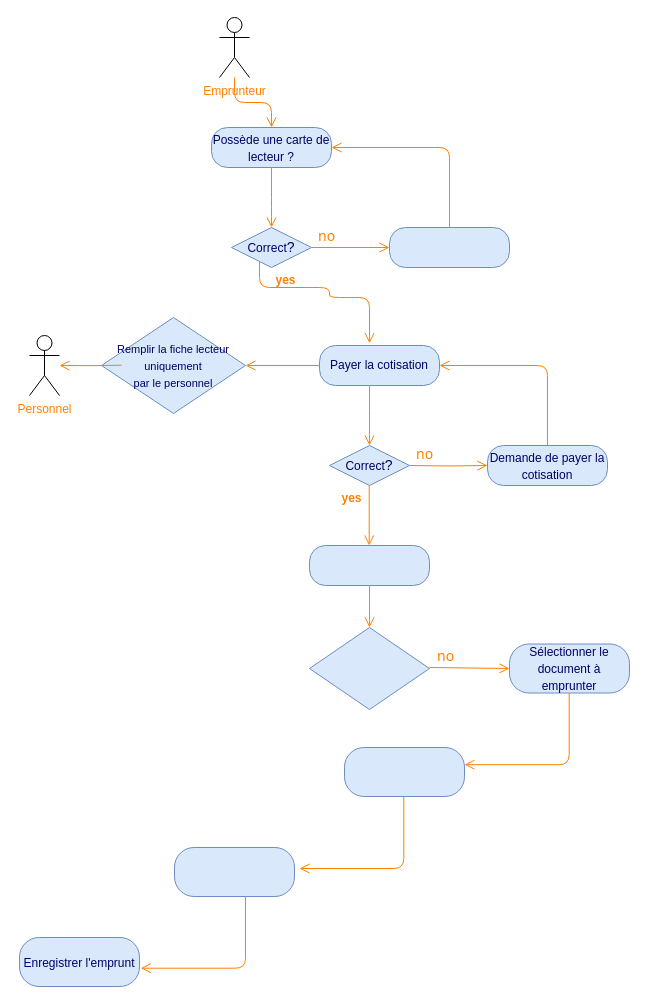
Image size: 647x1004. Some labels were removed from this diagram. Each missing label, with the centre of its shape:
"A-t-il plus de 5 emprunts ?" belongs at [369,668].
"Demande une carte de lecteur" belongs at [449,247].
"Présenter la carte de lecteur" belongs at [404,771].
"Prêter le document" belongs at [234,871].
"Vérifier le nombre d'emprunts en cours" belongs at [369,565].
